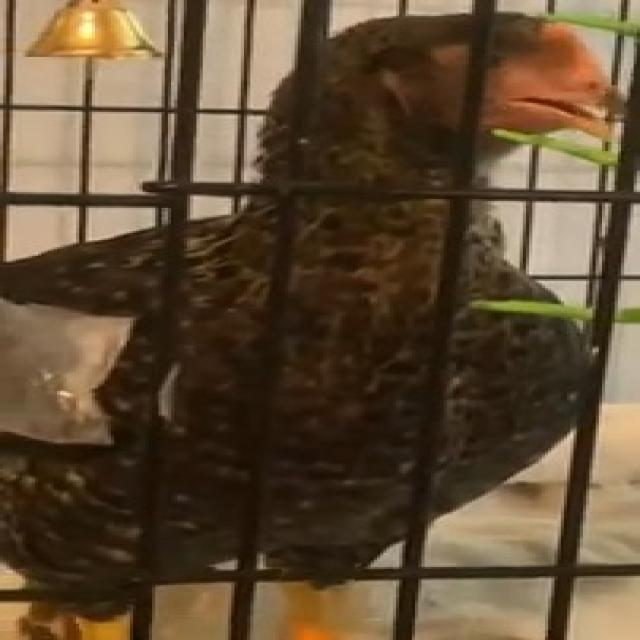Breathing: (0, 7, 627, 597)
